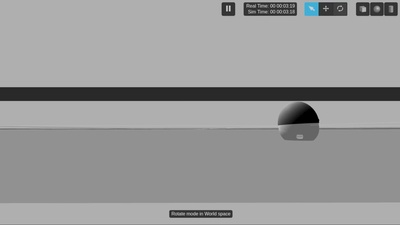mira_robot: (278, 102, 320, 142)
